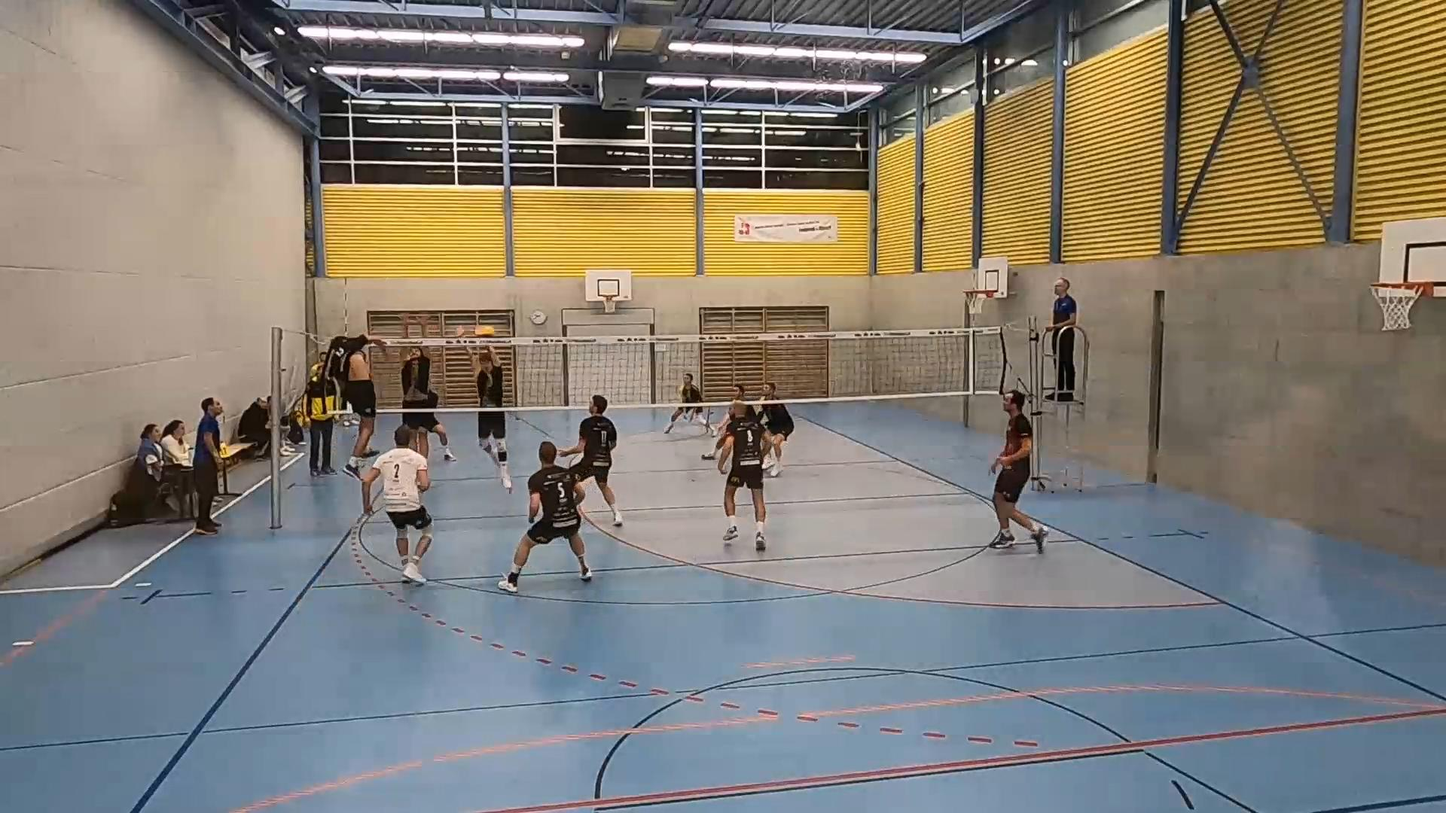Attack: (324, 335, 389, 485)
Block: (453, 315, 524, 499), (394, 307, 449, 474)
Player: (499, 441, 591, 592), (361, 425, 432, 584), (989, 391, 1048, 553), (561, 394, 622, 526), (718, 400, 767, 550), (760, 382, 794, 477), (664, 373, 709, 433), (701, 409, 731, 459)
ball: (477, 325, 499, 336)
